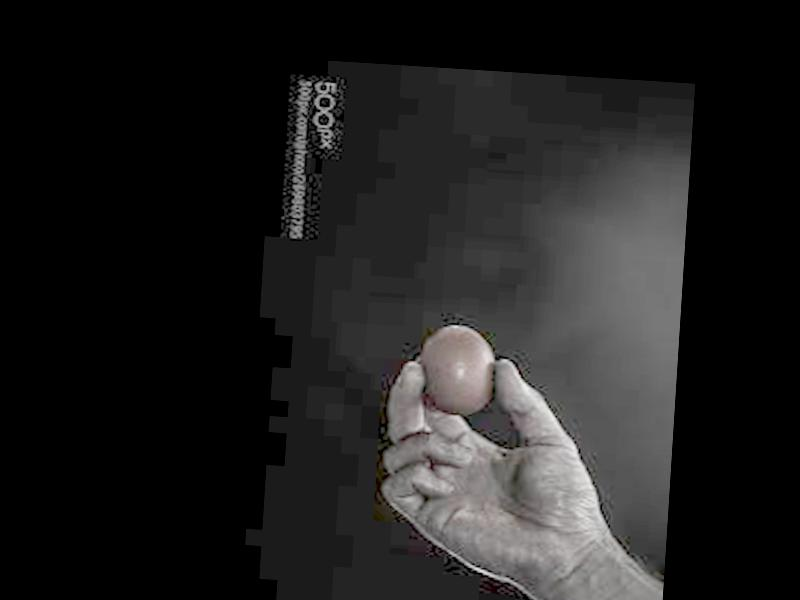Eggs: (418, 324, 500, 420)
